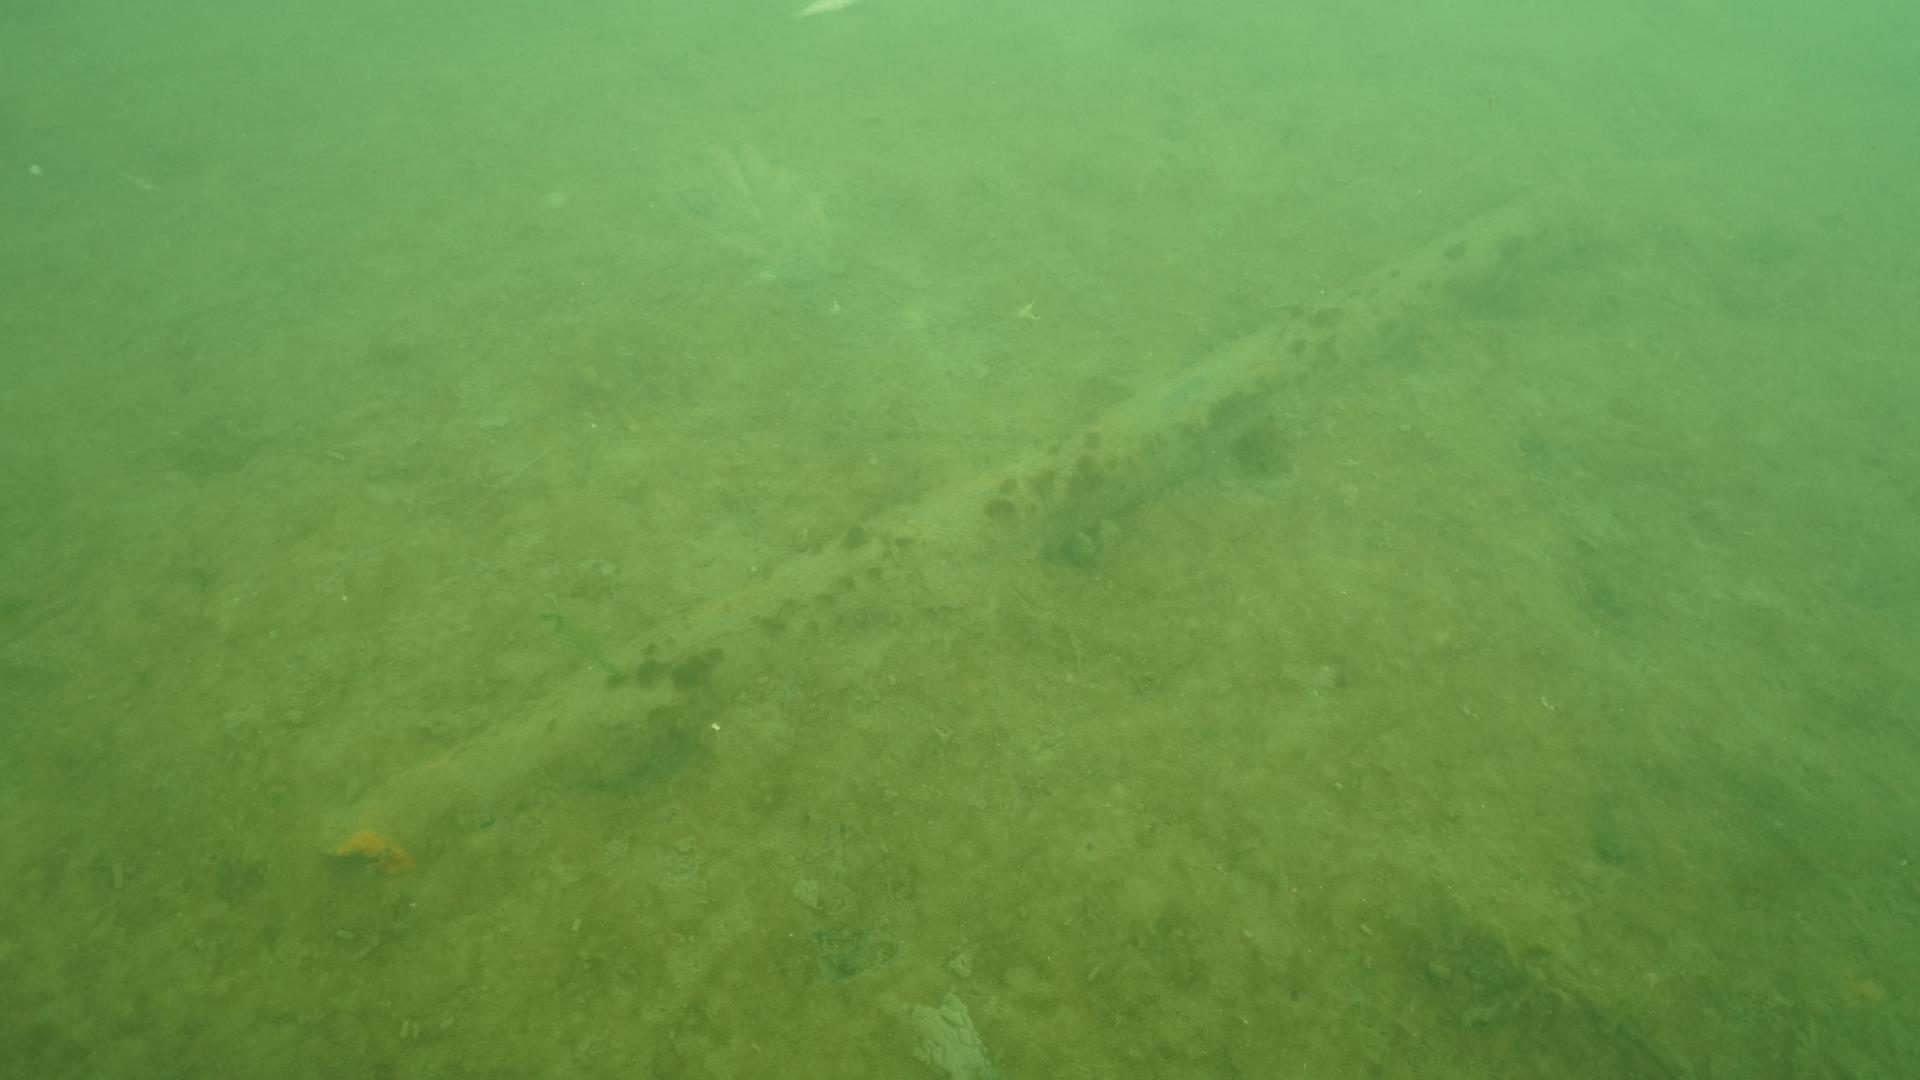wood: (315, 202, 1534, 876)
